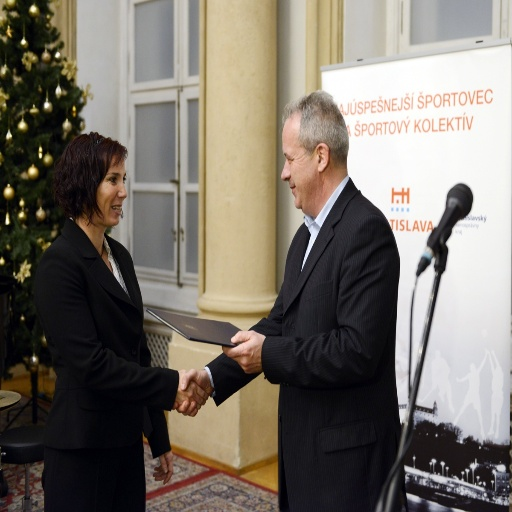hand: (221, 327, 265, 375), (174, 367, 208, 410), (151, 448, 173, 485)
